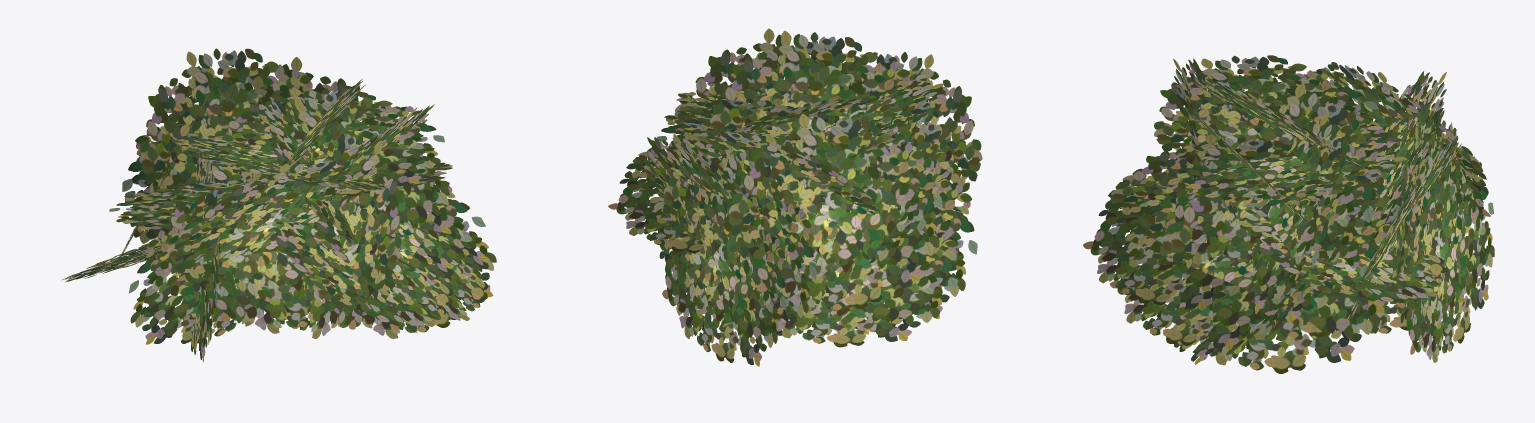
Rendered from Bush_Common_Flowers_LOD1.gltf.
3 renders of one model, left to right at view 1: azimuth 30°, elevation 25°; view 2: azimuth 150°, elevation 25°; view 3: azimuth 270°, elevation 25°, orthographic. The views are drawn at different scales.
Parts seen in each view (by area): view 1: Bush_Common_Flowers_LOD1; view 2: Bush_Common_Flowers_LOD1; view 3: Bush_Common_Flowers_LOD1.
Part boxes in pixels (x1,y1,x2,y2): Bush_Common_Flowers_LOD1: [61, 48, 496, 362]; Bush_Common_Flowers_LOD1: [608, 28, 982, 366]; Bush_Common_Flowers_LOD1: [1083, 55, 1494, 373].
Size of the model in its own units: 2.25 by 1.48 by 2.27.
1 material, 1 textured.
